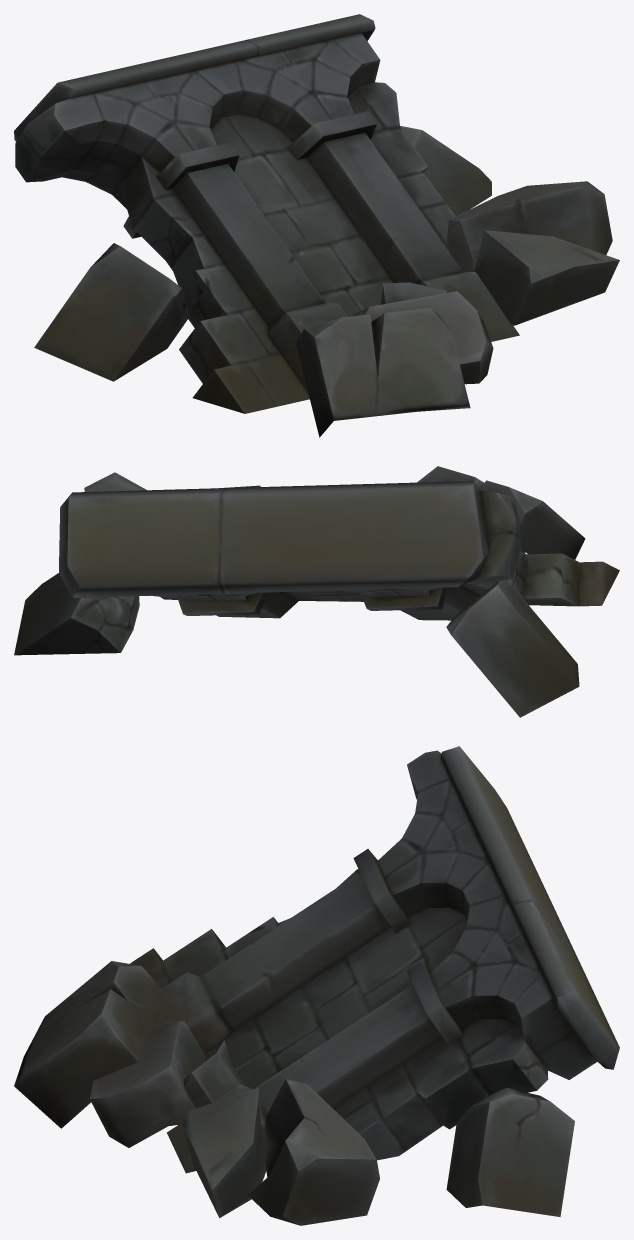
3 renders of one model, top to bottom at view 1: azimuth 30°, elevation 25°; view 2: azimuth 150°, elevation 25°; view 3: azimuth 270°, elevation 25°, orthographic. The views are drawn at different scales.
Parts seen in each view (by area): view 1: models_ruins_blocks_04-0-model; view 2: models_ruins_blocks_04-0-model; view 3: models_ruins_blocks_04-0-model.
Part boxes in pixels (<box>): models_ruins_blocks_04-0-model: <box>14,14,619,437</box>; models_ruins_blocks_04-0-model: <box>14,466,619,717</box>; models_ruins_blocks_04-0-model: <box>14,746,619,1225</box>.
Bounding box in the file's own units: 10.17 × 4.68 × 9.36.
Materials: 1 (1 with a texture image).
